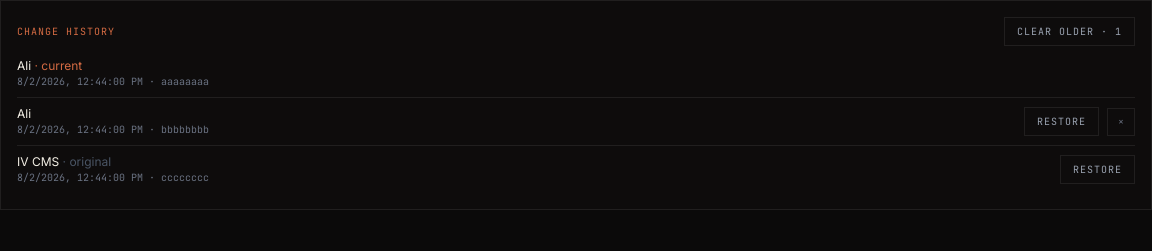
an admin › says so when the offsite backup could not be updated
Click the button "Clear older · 1" at (1070, 32), box [1004,17,1135,46]
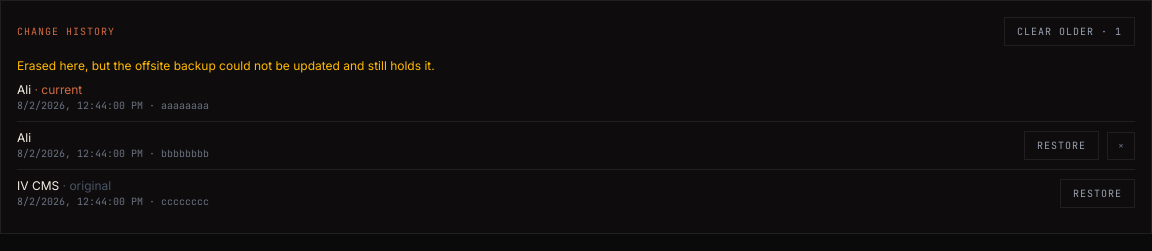
Check: the text "offsite backup could not be updated" is shown, box [17,58,435,73]
